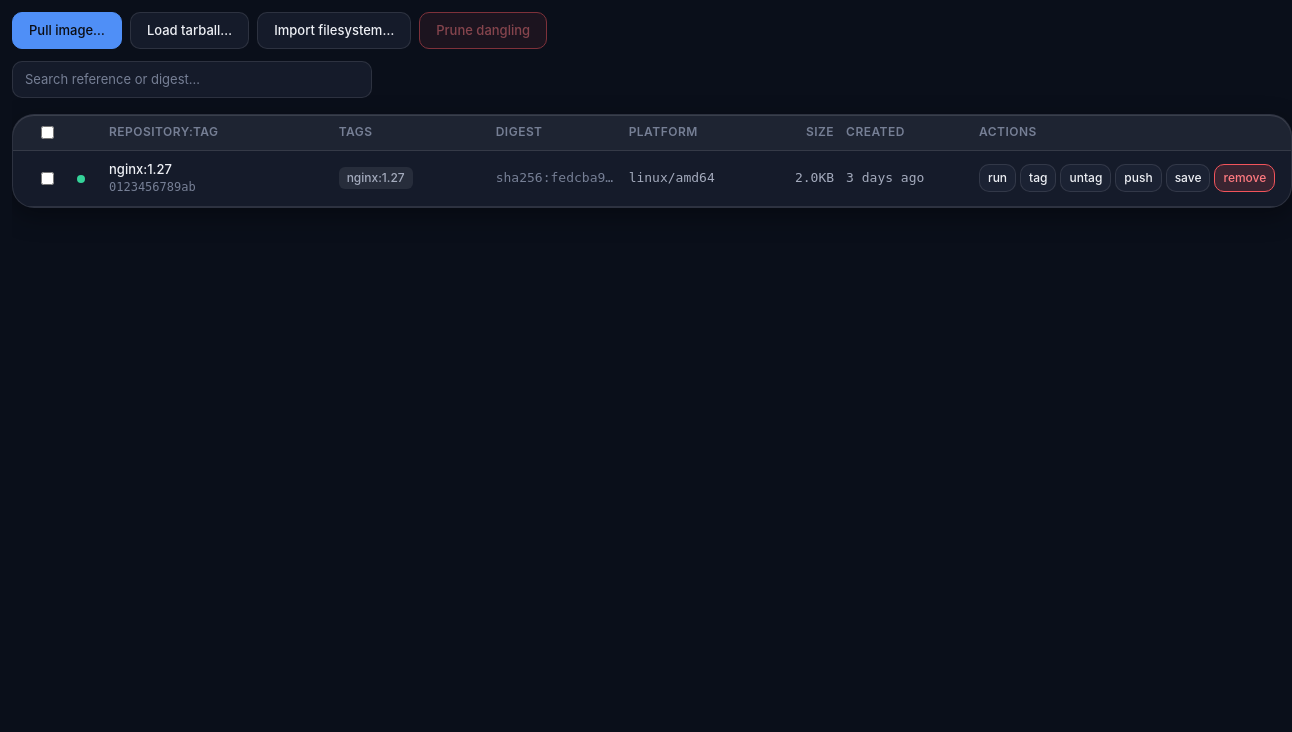
Test: ImagesScreen — row expansion (plan-docker_management_app/REQ-37) › keeps the row actions out of the expanded region, which carries the detail panel alone
Click the element with class "ui-data-table__row" at (652, 179), box [13,151,1291,207]
(page scrolled)
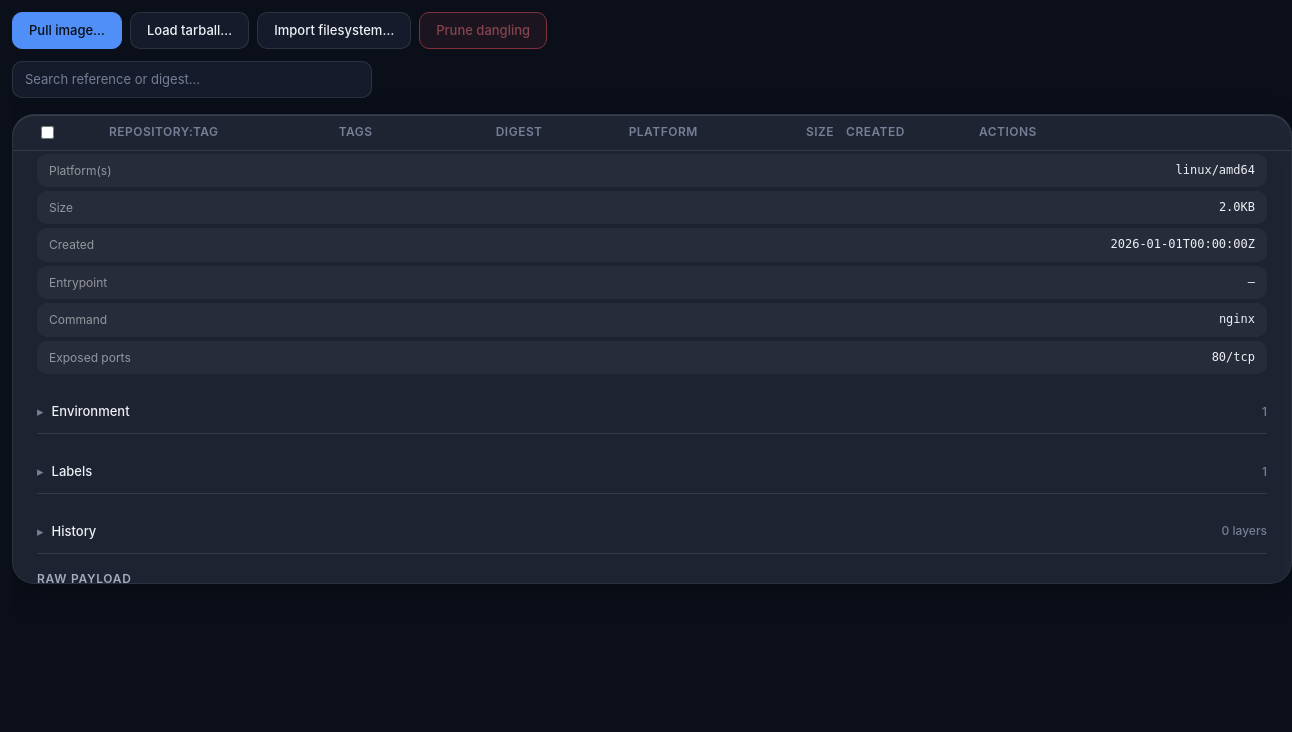
Result: the button "untag" is gone
Result: the button "push" is gone
Result: the button "remove" is gone
